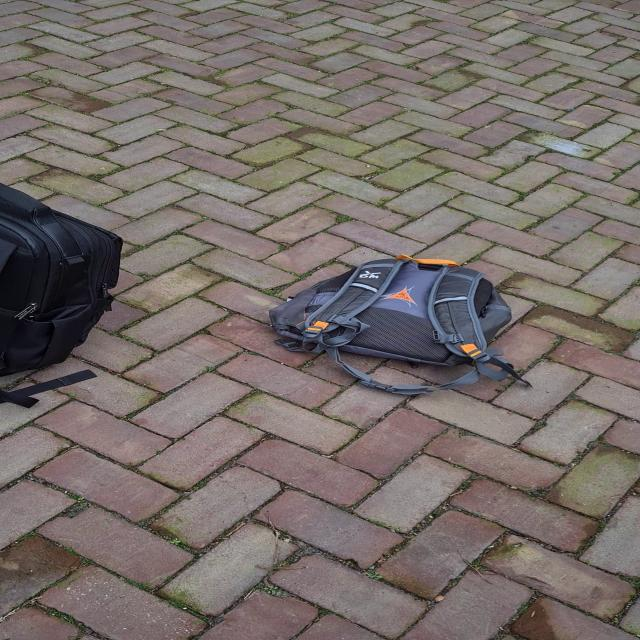backpack: (264, 254, 520, 398), (0, 176, 126, 408)
